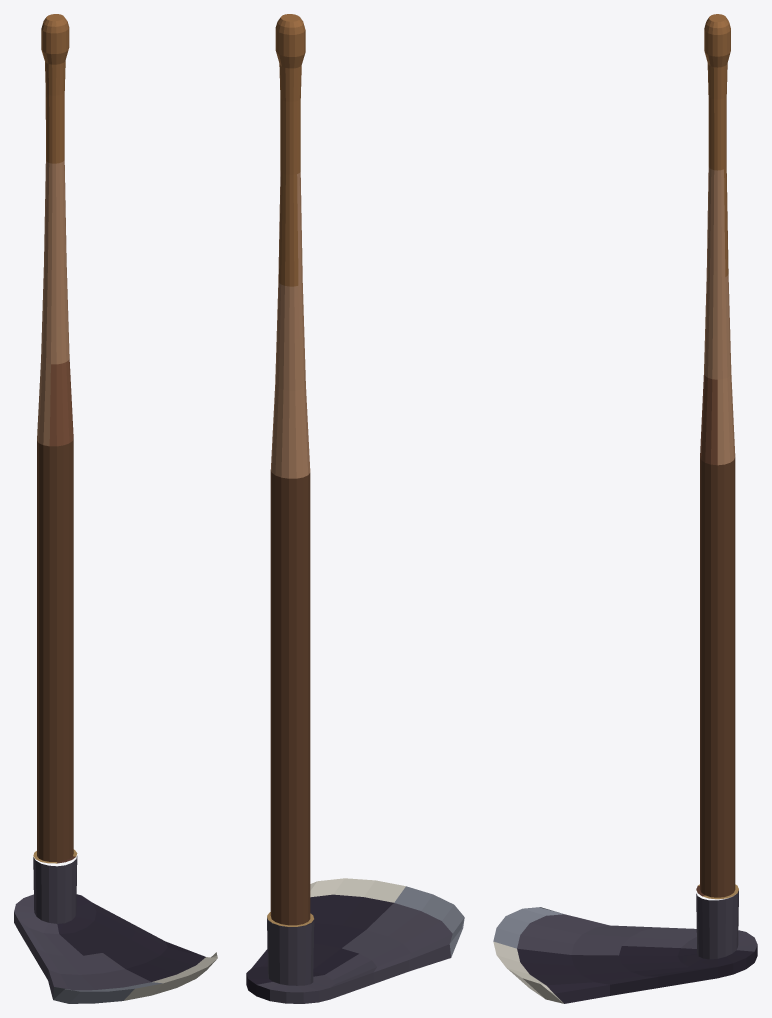
Rendered from modern_hoe.glb.
The picture shows the model from 3 angles, left to right: view 1: azimuth 30°, elevation 25°; view 2: azimuth 150°, elevation 25°; view 3: azimuth 270°, elevation 25°; orthographic projection. The views are drawn at different scales.
Parts seen in each view (by area): view 1: Cube.001; view 2: Cube.001; view 3: Cube.001.
Boxes of the visible parts, x1,y1,x2,y2 form: Cube.001: (14,14,217,1003); Cube.001: (246,14,464,1003); Cube.001: (493,14,757,1003).
Size of the model in its own units: 0.139 by 0.8 by 0.2012.
